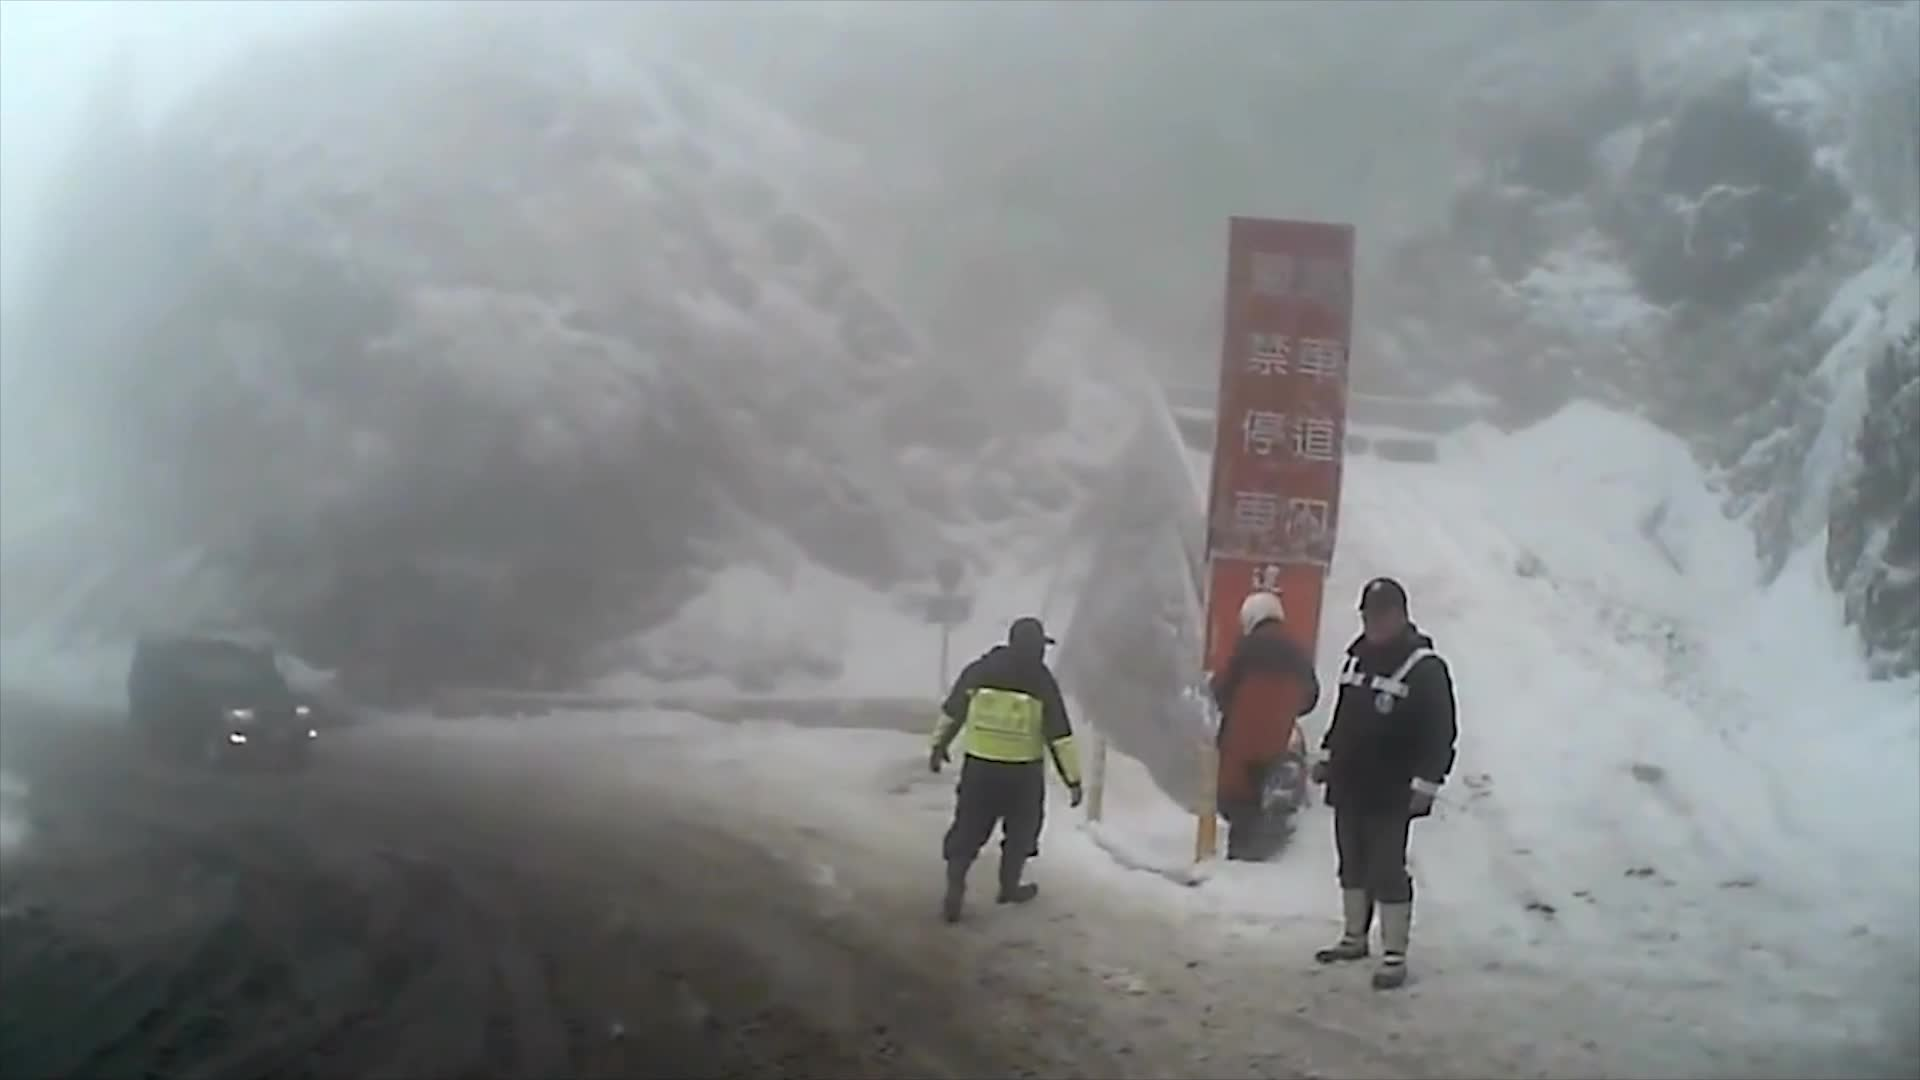pedestrian: (1313, 580, 1454, 997), (927, 619, 1083, 915), (1208, 589, 1322, 861)
vehicle: (125, 628, 318, 768)
